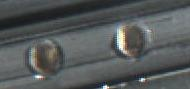joints: (113, 17, 155, 61), (26, 36, 65, 80)
twou: (29, 82, 164, 89)
